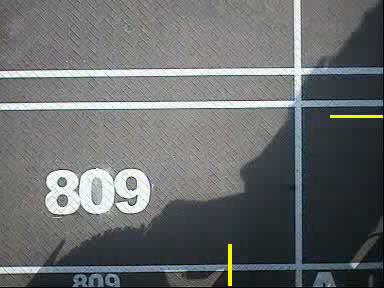groundmarker_2: (109, 76, 165, 107), (110, 230, 166, 260)
